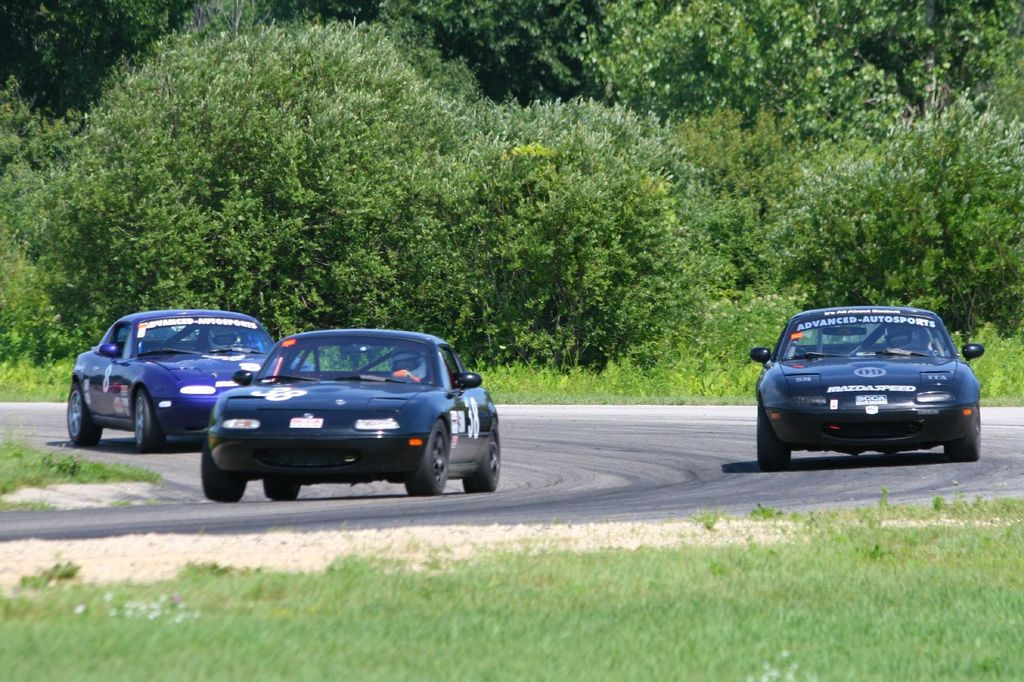mobil: (205, 322, 512, 508), (752, 303, 991, 473), (66, 305, 271, 463)
